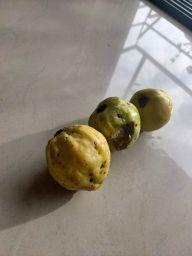guava: (39, 117, 111, 195), (84, 91, 143, 152), (129, 86, 177, 133)
